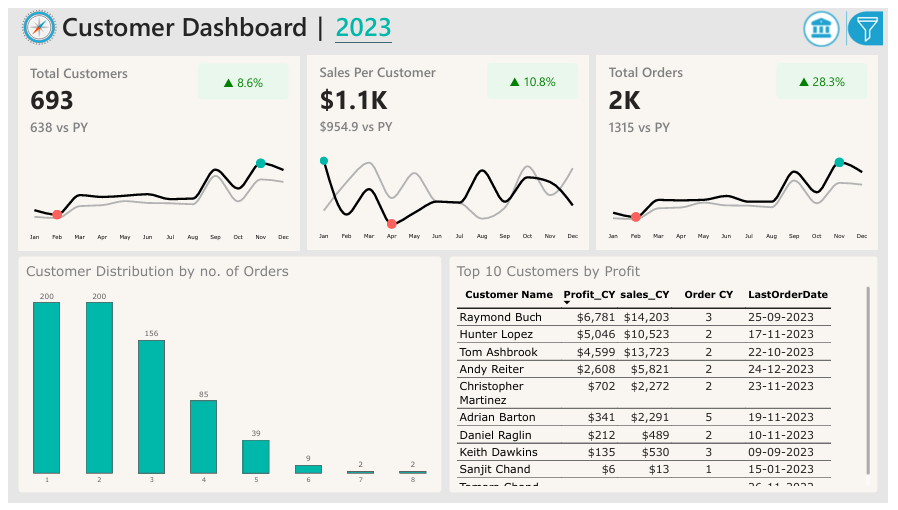

The page's visual inventory and layout, read from the dashboard file:
{"tool":"powerbi","page":{"name":"Customer Dashboard","canvas":[1920,1080],"ordinal":1},"visuals":[{"type":"textbox","box":[116,0,734,80],"z":0},{"type":"image","box":[8,0,116,80],"z":1000},{"type":"shape","title":"Shape","box":[652,102,614.1,424.9],"z":1000,"group":"g2"},{"type":"shape","title":"Shape","box":[1284,102,614.1,424.9],"z":1000,"group":"g3"},{"type":"shape","title":"Shape","box":[20,103.3,614.1,424.9],"z":1000,"group":"g1"},{"type":"cardVisual","fields":{"Data":["_measurseTwo.Customer CY"]},"box":[20,103.8,615,187.5],"z":1500,"group":"g1"},{"type":"actionButton","box":[1712,4,126,80],"z":2000},{"type":"shape","box":[1044,118,199,78.7],"z":2000,"group":"g2"},{"type":"shape","box":[1676,118,199,78.7],"z":2000,"group":"g3"},{"type":"cardVisual","fields":{"Data":["_measurseTwo.Total Sales Per Cust CY"]},"box":[652,102.5,615,187.5],"z":3000,"group":"g2"},{"type":"cardVisual","fields":{"Data":["_measurseTwo.Order CY"]},"box":[1284,102.5,615,187.5],"z":3000,"group":"g3"},{"type":"actionButton","title":"btn_open","box":[1820,2,100,82],"z":4000},{"type":"lineChart","fields":{"Category":["Calendar.month_name"],"Y":["_measurseTwo.Sales Per Cust PY","_measurseTwo.Sales Per Cust CY","_measurseTwo.Sales Per Cust Max Point","_measurseTwo.Sales Per Cust Min Point"]},"box":[652,290,615,235],"z":4000,"group":"g2"},{"type":"lineChart","fields":{"Category":["Calendar.month_name"],"Y":["_measurseTwo.Order CY","_measurseTwo.Order PY","_measurseTwo.Order Max Point","_measurseTwo.Order Min Point"]},"box":[1284,290,615,235],"z":4000,"group":"g3"},{"type":"lineChart","fields":{"Category":["Calendar.month_name"],"Y":["_measurseTwo.Customer CY","_measurseTwo.Customer PY","_measurseTwo.Cust Max Point","_measurseTwo.Cust Min Point"]},"box":[20,291.3,615,235],"z":4000,"group":"g1"},{"type":"shape","box":[412,119.3,199,78.7],"z":4500,"group":"g1"},{"type":"columnChart","title":"Customer Distribution by no. of Orders","fields":{"Category":["Order Buckets.Orders"],"Y":["_measurseTwo.Customers by Order Count"]},"box":[19.9,540,924.7,518.3],"z":6000},{"type":"tableEx","title":"Top 10 Customers by Profit","fields":{"Values":["dim_customers.Customer Name","_measures.Profit_CY","_measures.sales_CY","_measurseTwo.Order CY","_measurseTwo.SelectedName"]},"box":[960.8,540,937.3,518.3],"z":7000},{"type":"group","id":"g1","title":"Card_Profit","box":[20,103.3,615,424.9],"z":8000},{"type":"group","id":"g2","title":"Card_Profit","box":[652,102,615,424.9],"z":9000},{"type":"group","id":"g3","title":"Card_Qty","box":[1284,102,615,424.9],"z":10000}]}

Visuals, with their boxes in screenshot pixels (x1, y1, x2, y2), scaled from the page's 1920x1080 canvas onto the 898x510 screenshot:
textbox: [54,0,398,38]
image: [4,0,58,38]
"Shape" shape: [305,48,592,249]
"Shape" shape: [601,48,888,249]
"Shape" shape: [9,49,297,249]
cardVisual - _measurseTwo.Customer CY: [9,49,297,138]
actionButton: [801,2,860,40]
shape: [488,56,581,93]
shape: [784,56,877,93]
cardVisual - _measurseTwo.Total Sales Per Cust CY: [305,48,593,137]
cardVisual - _measurseTwo.Order CY: [601,48,888,137]
"btn_open" actionButton: [851,1,897,40]
lineChart - Calendar.month_name x _measurseTwo.Sales Per Cust PY: [305,137,593,248]
lineChart - Calendar.month_name x _measurseTwo.Order CY: [601,137,888,248]
lineChart - Calendar.month_name x _measurseTwo.Customer CY: [9,138,297,249]
shape: [193,56,286,94]
"Customer Distribution by no. of Orders" columnChart: [9,255,442,500]
"Top 10 Customers by Profit" tableEx: [449,255,888,500]
"Card_Profit" group: [9,49,297,249]
"Card_Profit" group: [305,48,593,249]
"Card_Qty" group: [601,48,888,249]
